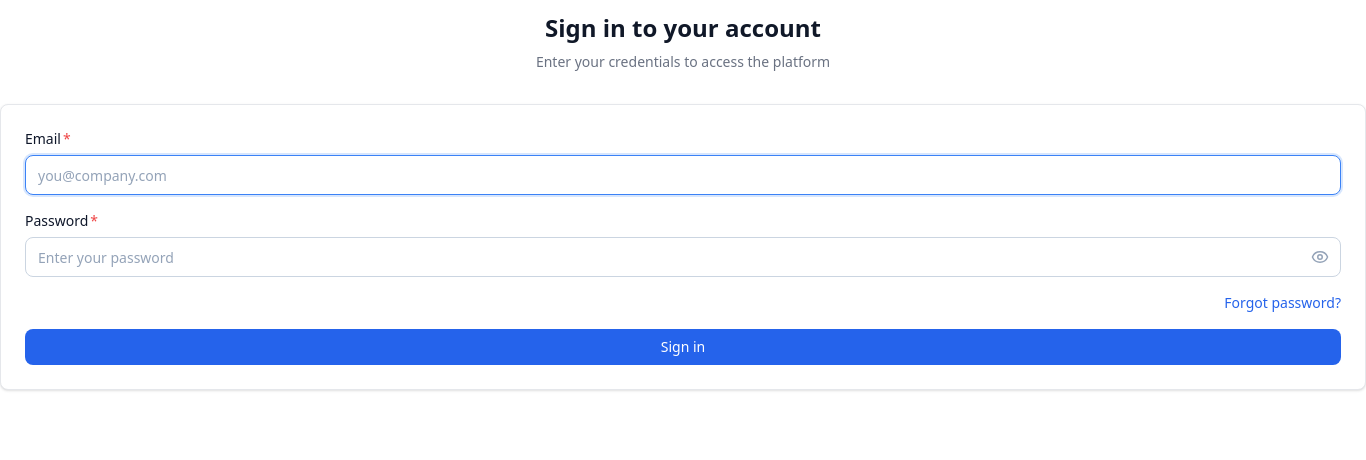
Test: LoginPage › clears field error when user starts typing
The image size is (1366, 460).
# Submit empty to trigger errors
Click the button "Sign in": [683, 347] box [25,329,1341,365]
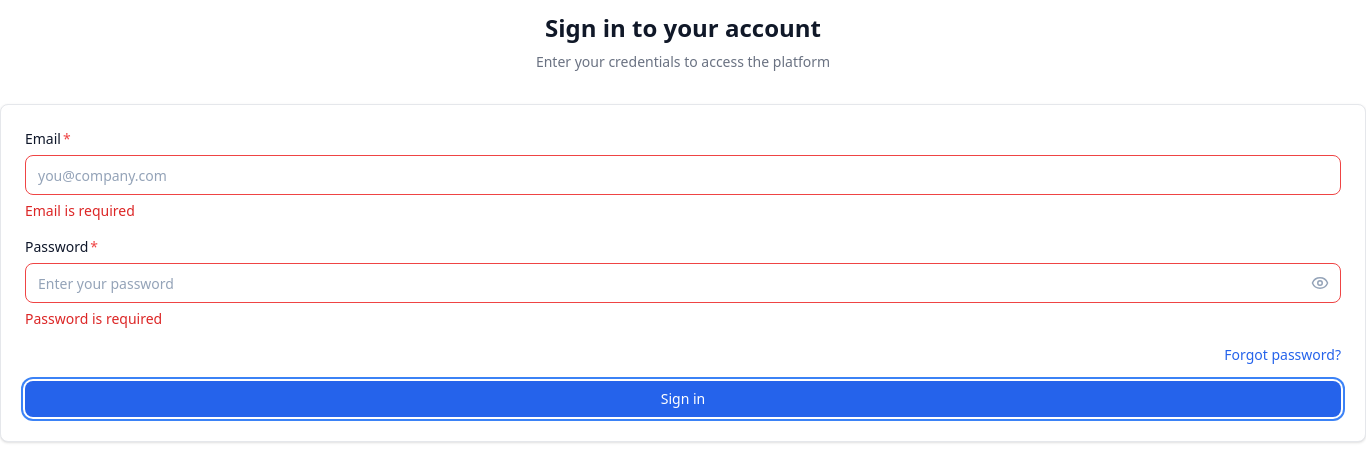
Check: the text "Email is required" is shown, box [25,201,135,220]
# Start typing in email field — error should clear
In the field labelled "Email*": [683, 175] box [25,155,1341,195], type "a"
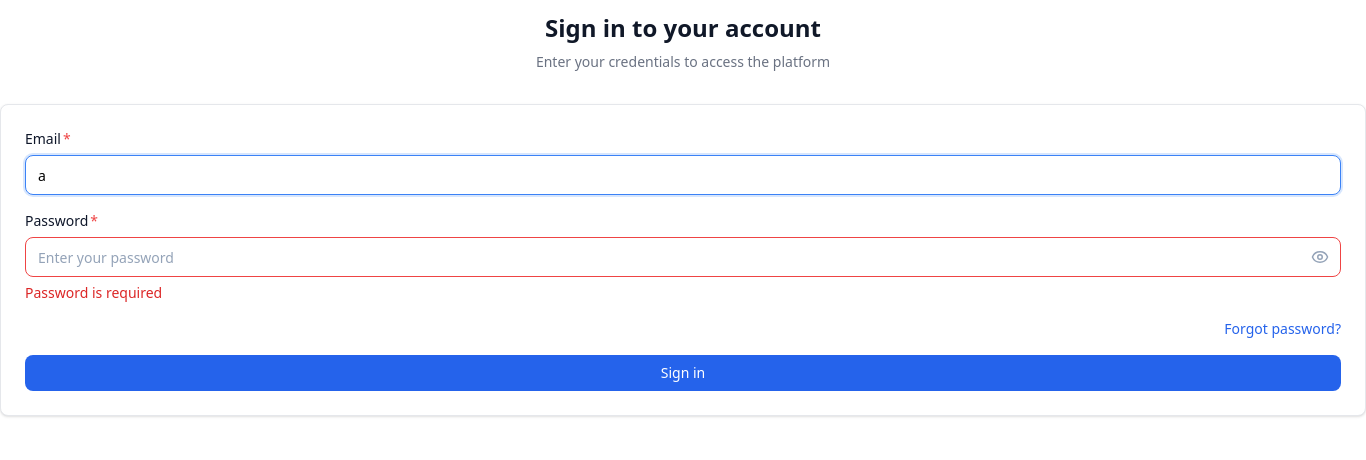
Check: the text "Email is required" is gone
